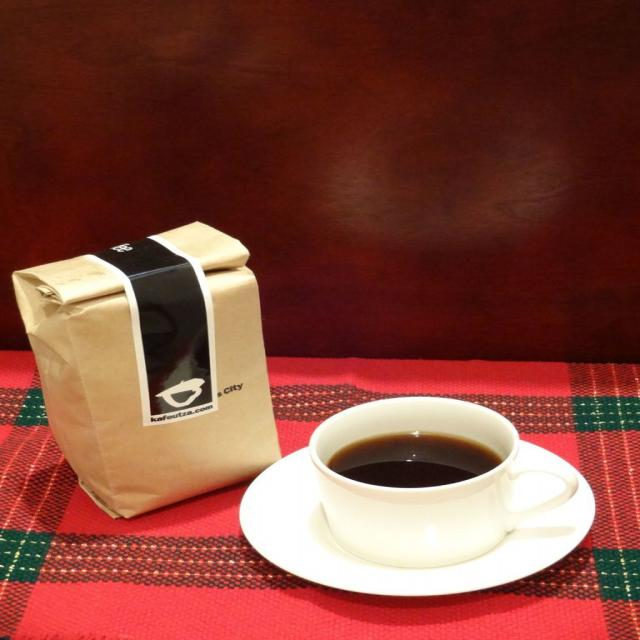Coffee: (328, 432, 503, 489)
Tea: (324, 428, 501, 486)
